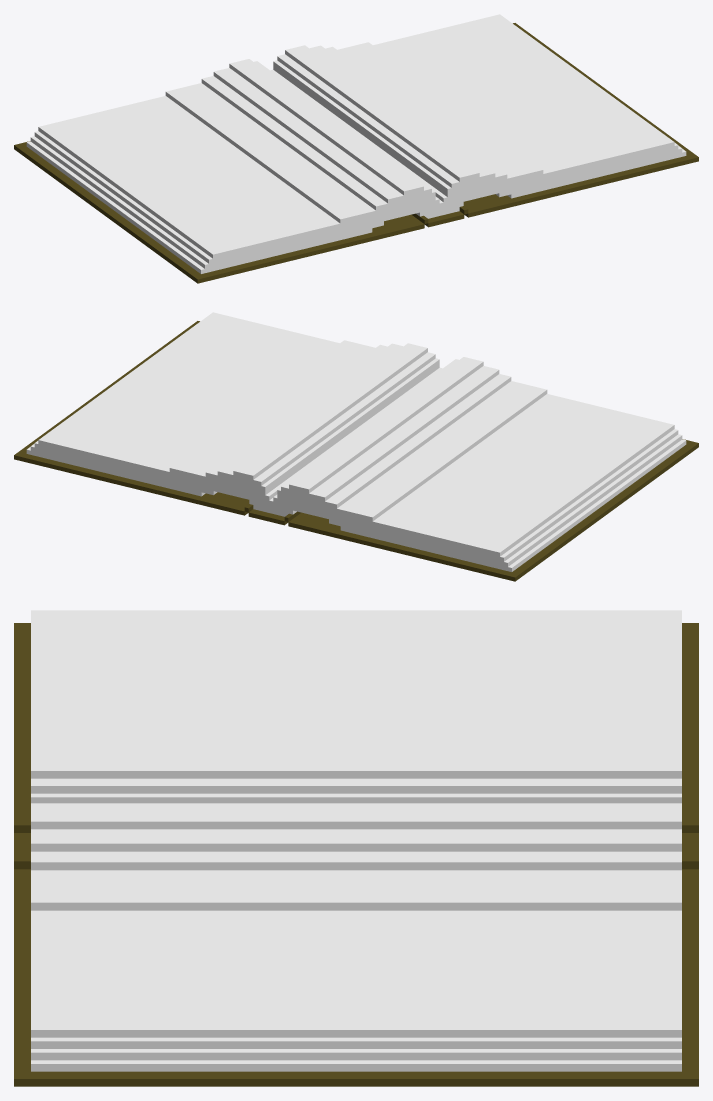
File: Book1-1.fbx
The picture shows the model from 3 angles, top to bottom: view 1: azimuth 30°, elevation 25°; view 2: azimuth 150°, elevation 25°; view 3: azimuth 270°, elevation 25°; orthographic projection. The views are drawn at different scales.
Visible parts, largest first — view 1: Book1-1; view 2: Book1-1; view 3: Book1-1.
Part boxes in pixels (x1,y1,x2,y2): Book1-1: (14,14,698,283); Book1-1: (14,312,698,581); Book1-1: (14,610,698,1086).
Size of the model in its own units: 12.6 by 0.9 by 8.
